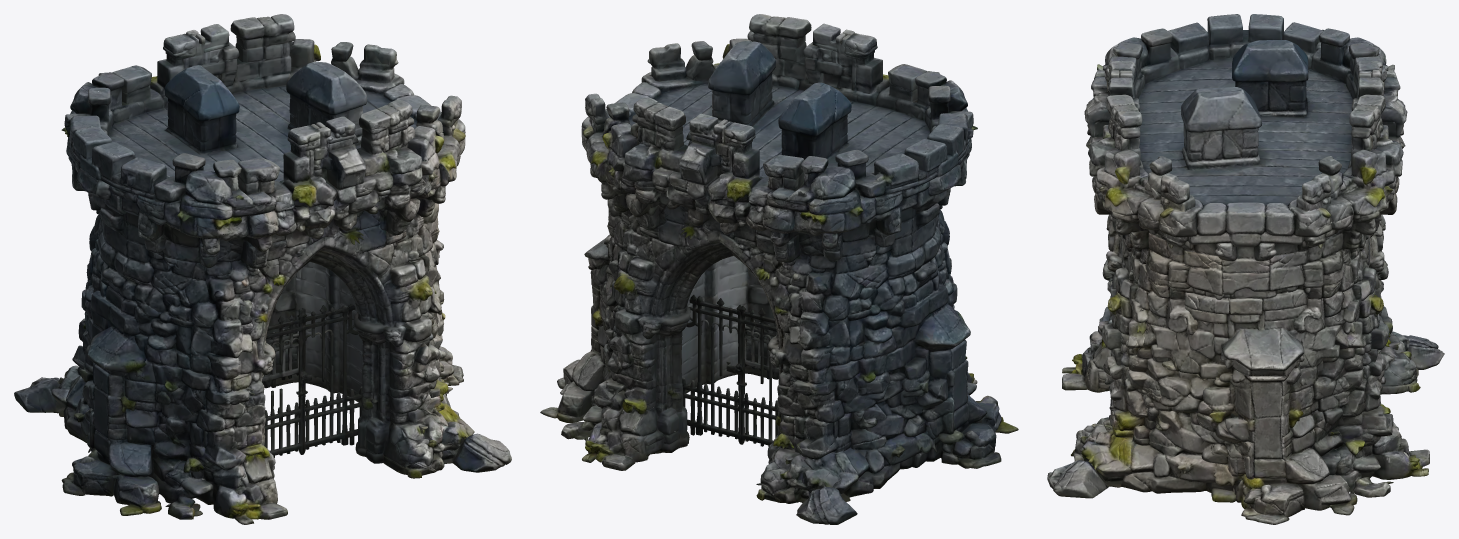
File: gate.glb
3 views of the same model, side by side, from view 1: azimuth 30°, elevation 25°; view 2: azimuth 150°, elevation 25°; view 3: azimuth 270°, elevation 25° (orthographic). The views are drawn at different scales.
Parts seen in each view (by area): view 1: tripo_node_f9629e13-fc6d-4b7f-bee8-be8176659e33; view 2: tripo_node_f9629e13-fc6d-4b7f-bee8-be8176659e33; view 3: tripo_node_f9629e13-fc6d-4b7f-bee8-be8176659e33.
Boxes of the visible parts, <box> form: tripo_node_f9629e13-fc6d-4b7f-bee8-be8176659e33: <box>14,14,511,524</box>; tripo_node_f9629e13-fc6d-4b7f-bee8-be8176659e33: <box>540,14,1018,524</box>; tripo_node_f9629e13-fc6d-4b7f-bee8-be8176659e33: <box>1047,14,1444,524</box>.
Size of the model in its own units: 0.9821 by 0.7933 by 0.8031.
1 material, 1 textured.
